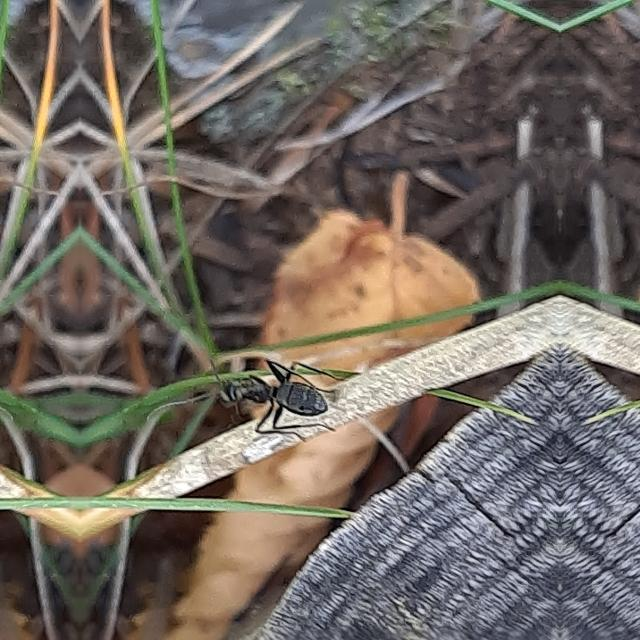Camponotus: (209, 356, 335, 438)
